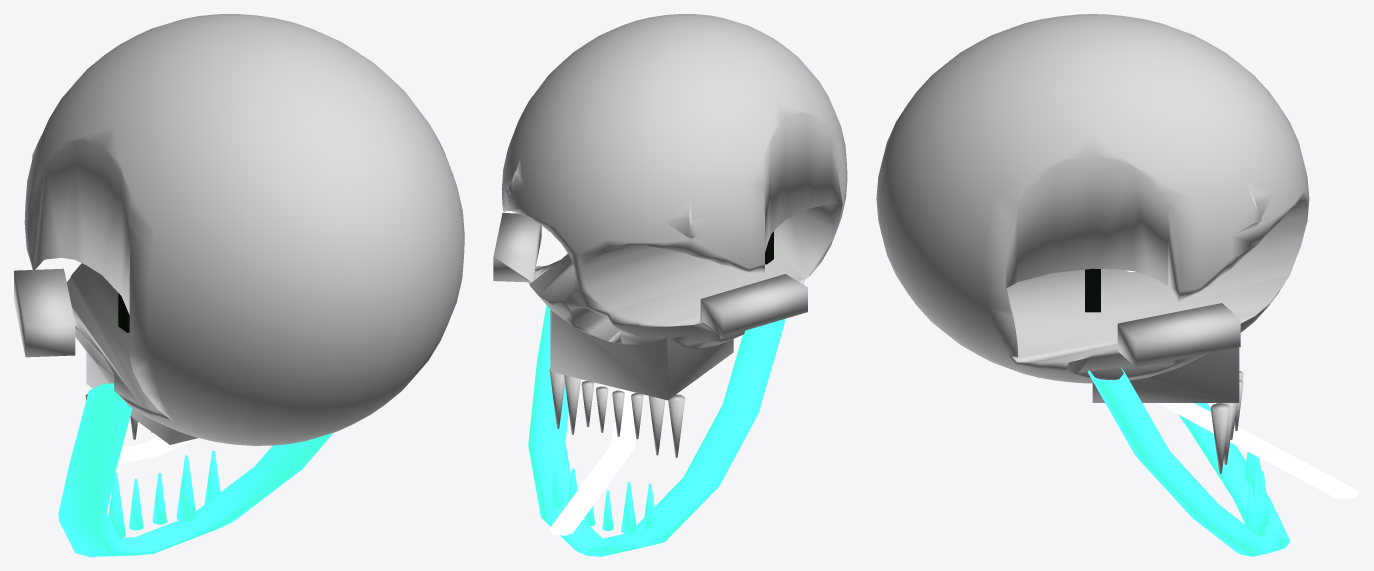
The model's file is avada_death_phantom.glb.
3 views of the same model, side by side, from view 1: azimuth 30°, elevation 25°; view 2: azimuth 150°, elevation 25°; view 3: azimuth 270°, elevation 25° (orthographic). The views are drawn at different scales.
Visible parts, largest first — view 1: Skull_Main, Skull_Jaw, Skull_PlasmaConduit; view 2: Skull_Main, Skull_Jaw, Skull_PlasmaConduit; view 3: Skull_Main, Skull_Jaw, Skull_PlasmaConduit, SkullVoid.
Part boxes in pixels (x1,y1,x2,y2): Skull_Main: (14,14,464,445); Skull_Jaw: (58,383,333,556); Skull_PlasmaConduit: (117,436,192,464); Skull_Main: (493,14,847,457); Skull_Jaw: (528,305,784,556); Skull_PlasmaConduit: (549,389,644,535); Skull_Main: (876,14,1309,473); Skull_Jaw: (1087,368,1290,556); Skull_PlasmaConduit: (1157,403,1359,499); SkullVoid: (1085,268,1100,312).
Size of the model in its own units: 0.5934 by 0.8488 by 0.7284.
